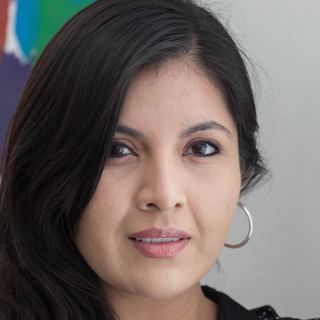eye: (97, 135, 143, 164), (179, 134, 224, 161)
